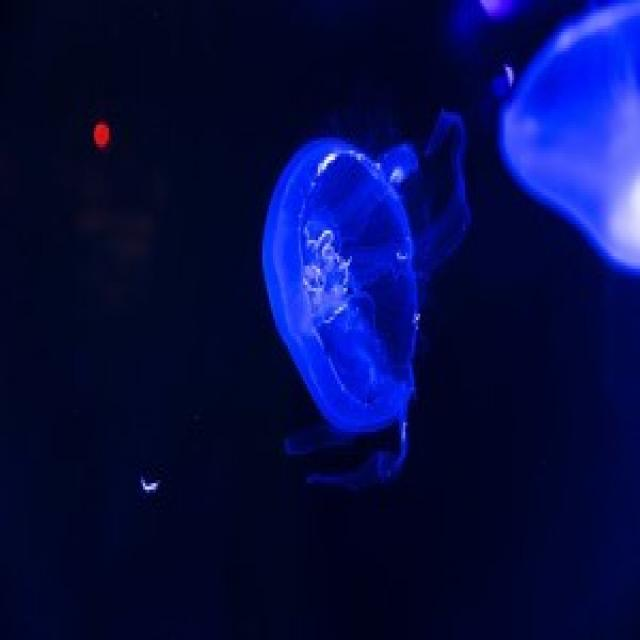Jellyfish: (254, 111, 471, 498), (488, 2, 640, 280)
